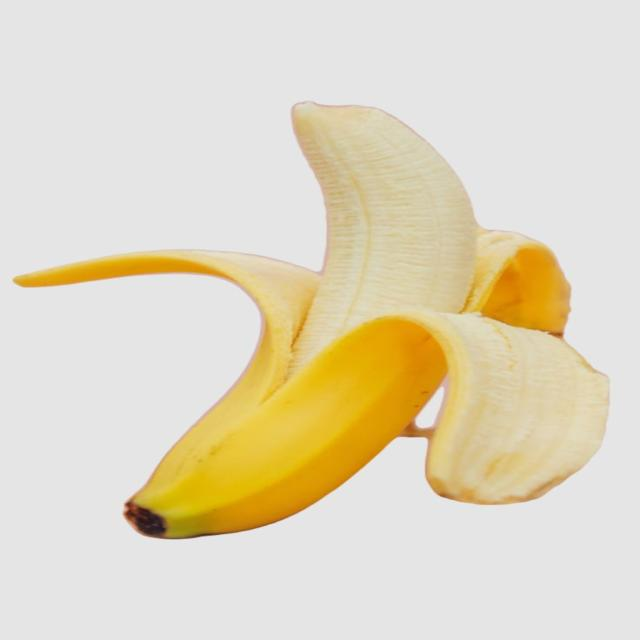banana: (16, 103, 606, 537), (292, 103, 476, 372)
